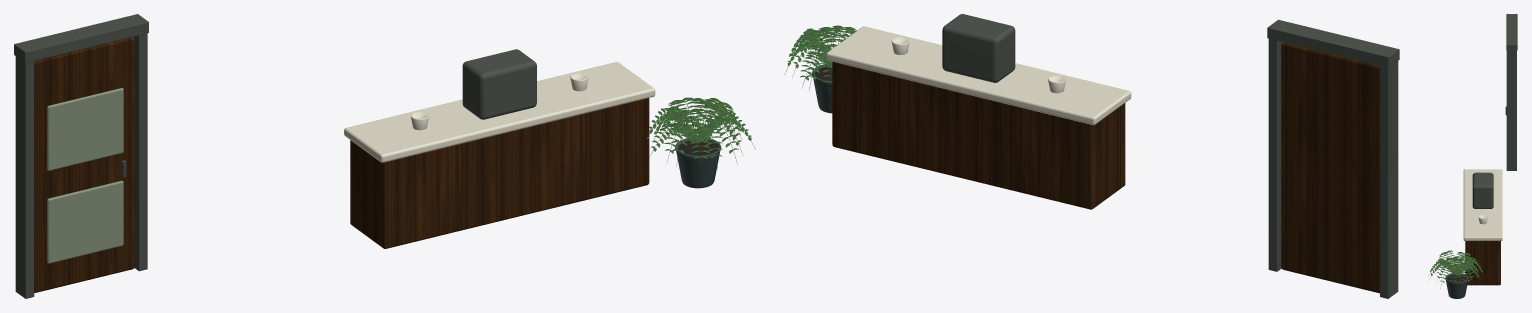
The model's file is south.glb.
The picture shows the model from 3 angles, left to right: view 1: azimuth 30°, elevation 25°; view 2: azimuth 150°, elevation 25°; view 3: azimuth 270°, elevation 25°; orthographic projection. The views are drawn at different scales.
Visible parts, largest first — view 1: japanese-game-cafe south; view 2: japanese-game-cafe south; view 3: japanese-game-cafe south.
Boxes of the visible parts, x1=… form: japanese-game-cafe south: x1=14, y1=14, x2=755, y2=298; japanese-game-cafe south: x1=784, y1=14, x2=1399, y2=298; japanese-game-cafe south: x1=1429, y1=14, x2=1517, y2=298.
Size of the model in its own units: 7.53 by 2.67 by 1.71.
Materials: 9 (1 with a texture image).
